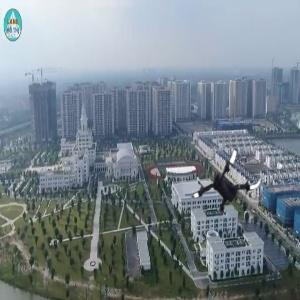drone: (186, 147, 265, 226)
